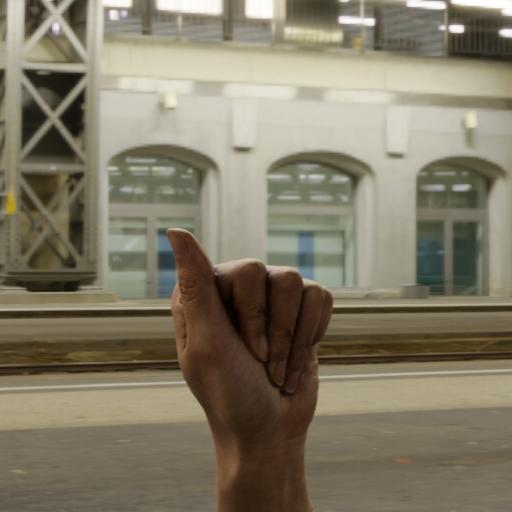A: (139, 187, 358, 440)
